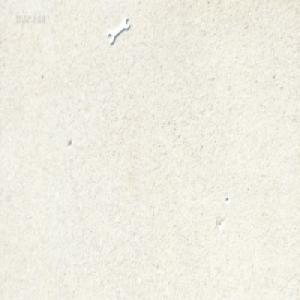Wrench: (107, 16, 129, 45)
